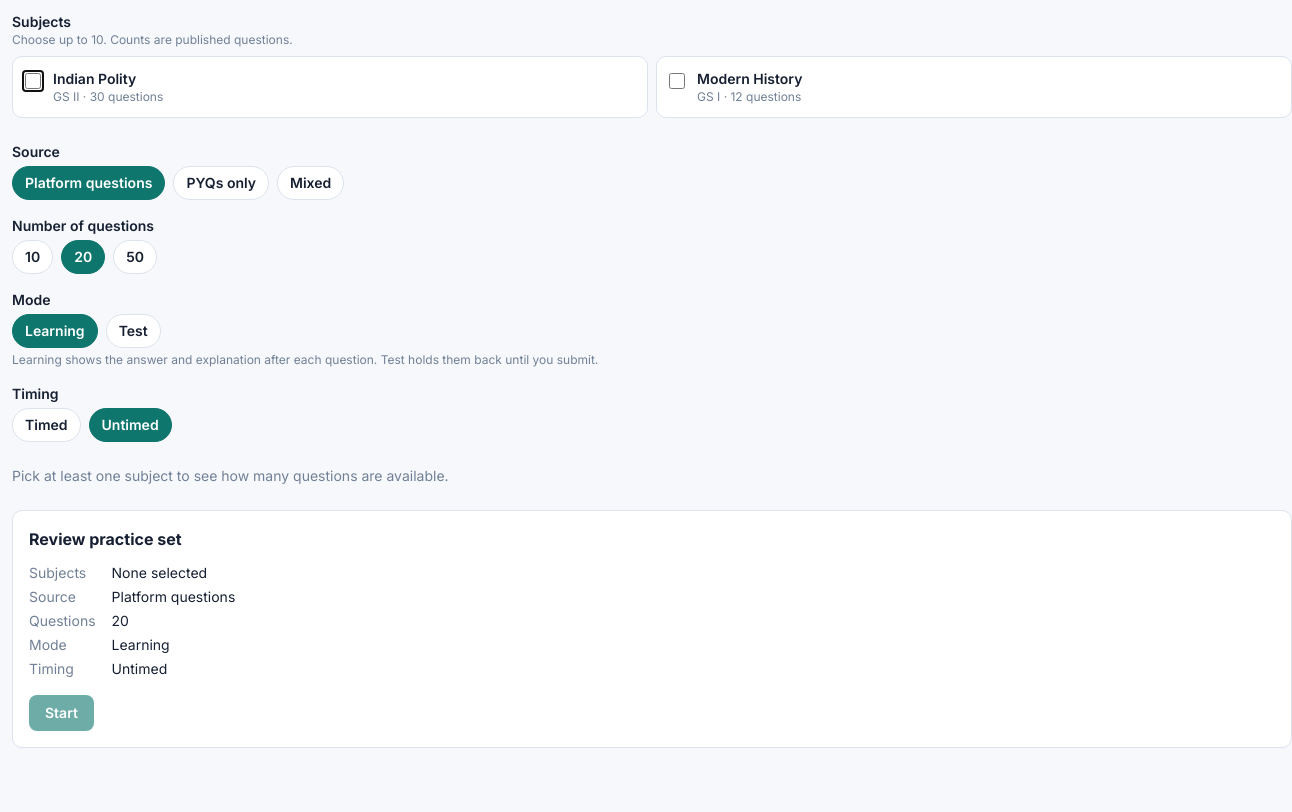
Test: BuilderForm › shows how many questions are available once subjects are picked
Click the checkbox labelled "Indian Polity GS II · 30 questions" at point(33, 81), box [25,73,41,89]
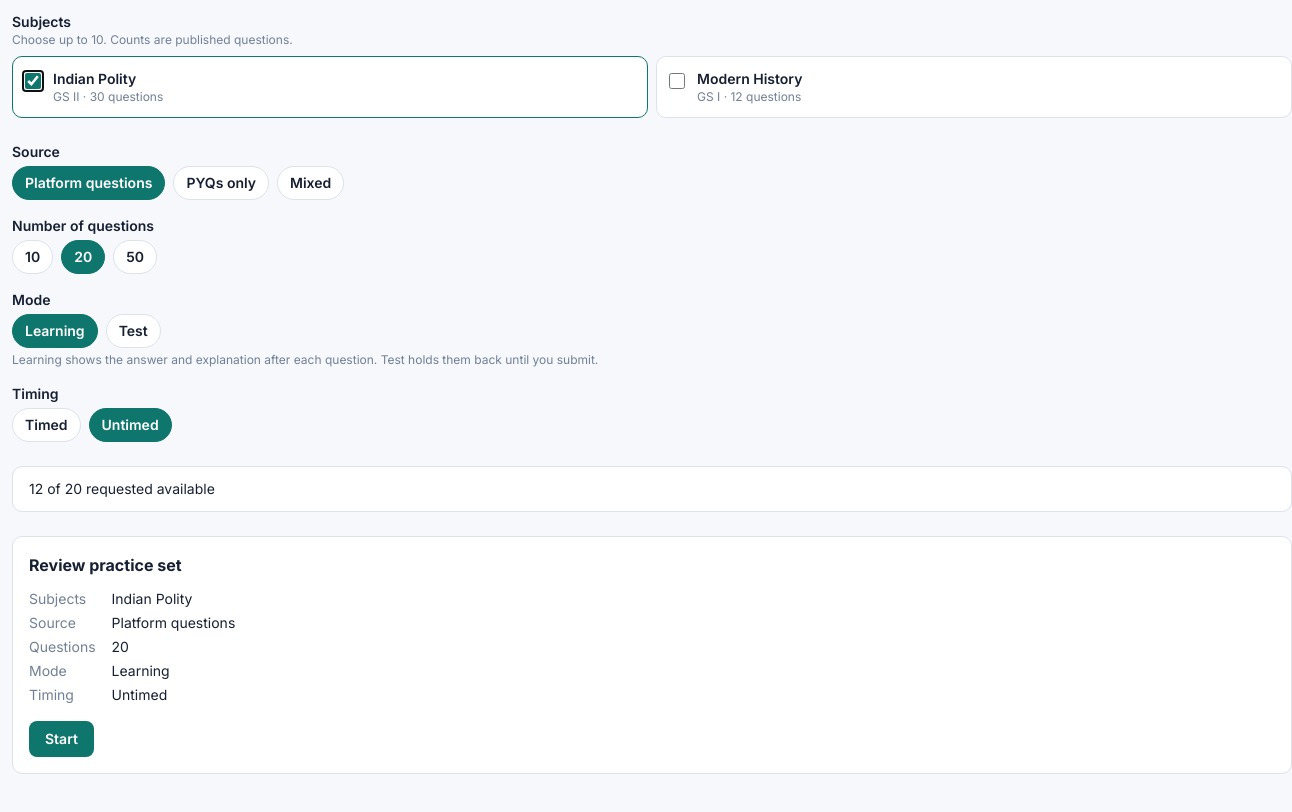
Check: the text "12 of 20 requested available" is shown, box [12,466,1291,512]
Check: the button "Start" is enabled, box [29,721,94,757]
